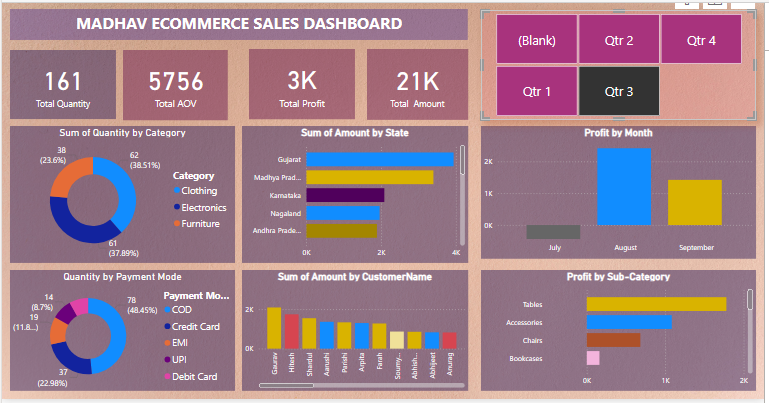

The page's visual inventory and layout, read from the dashboard file:
{"tool":"powerbi","page":{"name":"Page 1","canvas":[1280,720],"ordinal":0},"visuals":[{"type":"textbox","box":[13.4,65.5,769.3,52.1],"z":0},{"type":"columnChart","fields":{"Category":["Orders.Order Date.Variation.Date Hierarchy.Month"],"Y":["Sum(Details.Profit)"]},"box":[804.6,262,461.9,223.4],"z":1000},{"type":"barChart","fields":{"Category":["Details.Sub-Category"],"Y":["Sum(Details.Profit)"]},"box":[804.6,503.9,461.9,203.3],"z":2000},{"type":"donutChart","fields":{"Category":["Details.Category"],"Y":["Sum(Details.Quantity)"]},"box":[13.4,262,378,230.1],"z":3000},{"type":"donutChart","fields":{"Y":["Sum(Details.Quantity)"],"Category":["Details.PaymentMode"]},"box":[13.4,503.9,378,203.3],"z":4000},{"type":"card","fields":{"Values":["Sum(Details.Amount)"]},"box":[613.1,132.7,169.7,119.3],"z":5000},{"type":"card","fields":{"Values":["Sum(Details.Profit)"]},"box":[414.9,132.7,178.1,117.6],"z":6000},{"type":"card","fields":{"Values":["Sum(Details.Quantity)"]},"box":[13.4,134.4,178.1,115.9],"z":7000},{"type":"card","fields":{"Values":["Sum(Details.AOV)"]},"box":[203.3,134.4,176.4,117.6],"z":8000},{"type":"barChart","fields":{"Category":["Orders.State"],"Y":["Sum(Details.Amount)"]},"box":[403.1,262,379.6,230.1],"z":9000},{"type":"columnChart","fields":{"Category":["Orders.CustomerName"],"Y":["Sum(Details.Amount)"]},"box":[403.1,503.9,379.6,203.3],"z":10000},{"type":"slicer","fields":{"Values":["Orders.Order Date.Variation.Date Hierarchy.Quarter"]},"box":[804.6,67.2,461.9,184.8],"z":11000}]}

Visuals, with their boxes in screenshot pixels (x1, y1, x2, y2):
textbox: x1=10, y1=11, x2=466, y2=42
columnChart - Orders.Order Date.Variation.Date Hierarchy.Month x Sum(Details.Profit): x1=479, y1=127, x2=753, y2=260
barChart - Details.Sub-Category x Sum(Details.Profit): x1=479, y1=271, x2=753, y2=391
donutChart - Details.Category x Sum(Details.Quantity): x1=10, y1=127, x2=234, y2=264
donutChart - Sum(Details.Quantity) x Details.PaymentMode: x1=10, y1=271, x2=234, y2=391
card - Sum(Details.Amount): x1=365, y1=51, x2=466, y2=121
card - Sum(Details.Profit): x1=248, y1=51, x2=353, y2=120
card - Sum(Details.Quantity): x1=10, y1=52, x2=115, y2=120
card - Sum(Details.AOV): x1=122, y1=52, x2=227, y2=121
barChart - Orders.State x Sum(Details.Amount): x1=241, y1=127, x2=466, y2=264
columnChart - Orders.CustomerName x Sum(Details.Amount): x1=241, y1=271, x2=466, y2=391
slicer - Orders.Order Date.Variation.Date Hierarchy.Quarter: x1=479, y1=12, x2=753, y2=121
